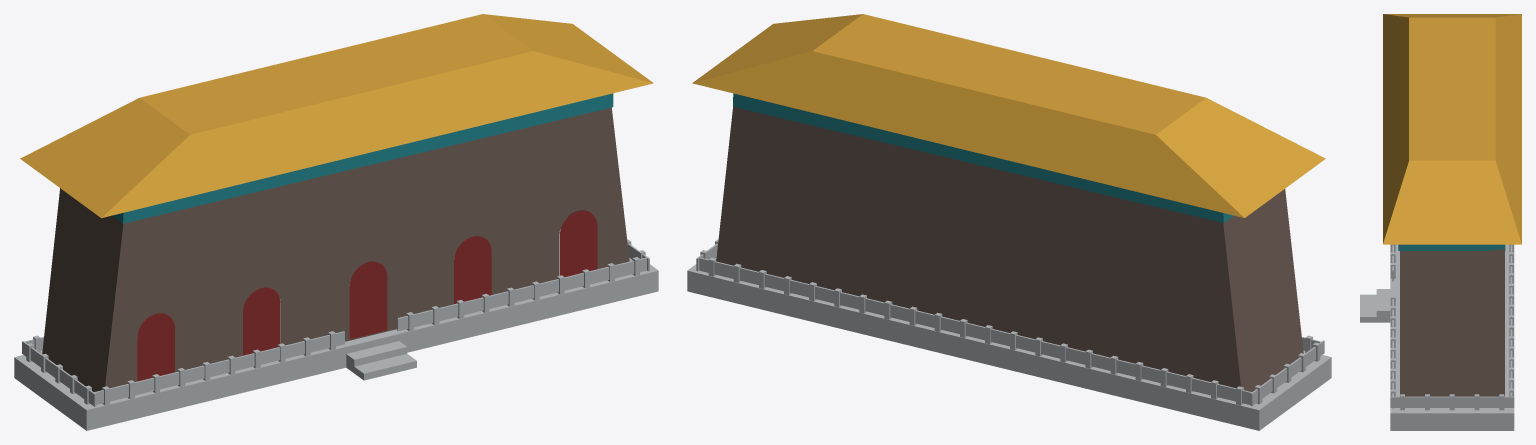
The model's file is huangshicheng.glb.
The picture shows the model from 3 angles, left to right: view 1: azimuth 30°, elevation 25°; view 2: azimuth 150°, elevation 25°; view 3: azimuth 270°, elevation 25°; orthographic projection. The views are drawn at different scales.
Parts seen in each view (by area): view 1: 墙体, 殿顶, 石基座, 额枋, 立方体.011, 立方体.010, 门洞切割体.005, 门洞切割体.002, 门洞切割体.001, 门洞切割体.003, 门洞切割体.004, 立方体.002 (+2 smaller); view 2: 墙体, 殿顶, 石基座, 立方体.001, 额枋, 立方体.002; view 3: 殿顶, 墙体, 石基座, 立方体.003, 立方体.001, 额枋, 立方体.011, 台阶1, 台阶2, 立方体.010.
Part boxes in pixels (x1,y1,x2,y2): 墙体: [42, 107, 629, 391]; 殿顶: [20, 14, 653, 217]; 石基座: [14, 229, 658, 430]; 额枋: [112, 93, 613, 223]; 立方体.011: [397, 257, 648, 331]; 立方体.010: [93, 331, 344, 405]; 门洞切割体.005: [349, 261, 387, 339]; 门洞切割体.002: [137, 313, 174, 381]; 门洞切割体.001: [243, 287, 280, 355]; 门洞切割体.003: [454, 236, 491, 304]; 门洞切割体.004: [560, 210, 597, 276]; 立方体.002: [22, 341, 96, 406]; 墙体: [716, 107, 1303, 391]; 殿顶: [692, 14, 1325, 217]; 石基座: [687, 258, 1331, 430]; 立方体.001: [699, 257, 1252, 405]; 额枋: [733, 93, 1233, 222]; 立方体.002: [1250, 340, 1324, 405]; 殿顶: [1383, 14, 1521, 244]; 墙体: [1400, 249, 1504, 396]; 石基座: [1390, 244, 1514, 430]; 立方体.003: [1390, 394, 1514, 410]; 立方体.001: [1509, 244, 1513, 396]; 额枋: [1398, 244, 1505, 250]; 立方体.011: [1390, 292, 1395, 408]; 台阶1: [1360, 294, 1390, 322]; 台阶2: [1376, 289, 1390, 316]; 立方体.010: [1390, 244, 1395, 281].
Bounding box in the file's own units: 41 × 17.82 × 11.74.
